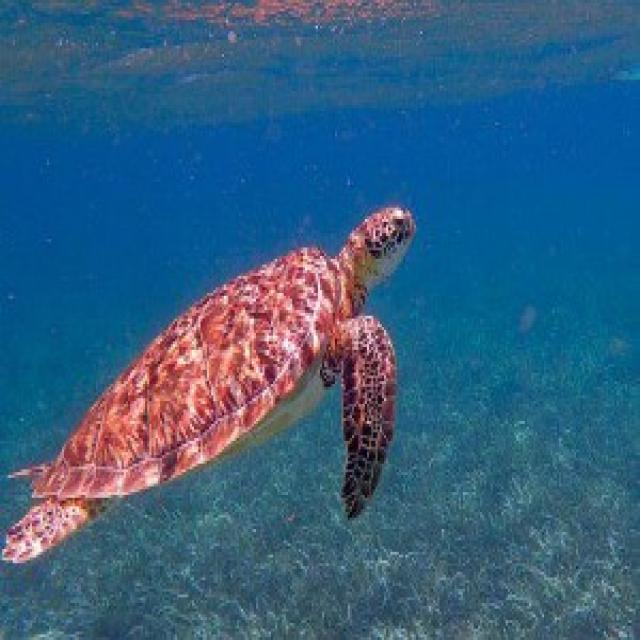Sea turtle: (0, 201, 444, 610)
